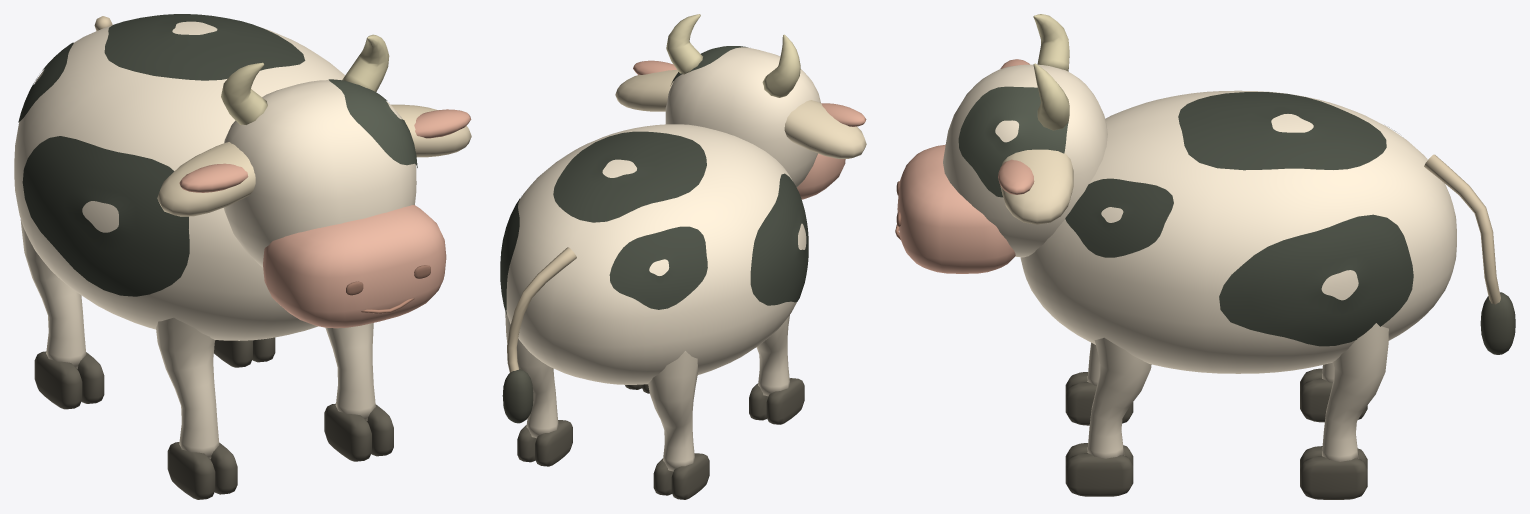
Rendered from cow.glb.
3 views of the same model, side by side, from view 1: azimuth 30°, elevation 25°; view 2: azimuth 150°, elevation 25°; view 3: azimuth 270°, elevation 25° (orthographic). The views are drawn at different scales.
Visible parts, largest first — view 1: sculpted-shoulders-belly, head-and-forehead, flush-coat-marking-1, soft-pink-muzzle, flush-coat-marking-2, curved-leg-2, curved-leg-0, ear--1, curved-leg-3, forehead-coat-marking, cloven-hoof-0-toe--1, cloven-hoof-2-toe--1 (+12 smaller); view 2: sculpted-shoulders-belly, head-and-forehead, flush-coat-marking-2, flush-coat-marking-4, flush-coat-marking-1, curved-leg-0, ear--1, curved-leg-1, ear-1, curved-leg-2, curving-tail, tail-tuft (+13 smaller); view 3: sculpted-shoulders-belly, flush-coat-marking-0, flush-coat-marking-2, head-and-forehead, soft-pink-muzzle, flush-coat-marking-3, forehead-coat-marking, curved-leg-1, curved-leg-3, ear-1, cloven-hoof-3-toe-1, cloven-hoof-1-toe-1 (+7 smaller).
Part boxes in pixels (left/top/right/bottom): sculpted-shoulders-belly: left=14, top=21, right=344, bottom=340; head-and-forehead: left=224, top=80, right=416, bottom=267; flush-coat-marking-1: left=22, top=136, right=189, bottom=296; soft-pink-muzzle: left=263, top=205, right=446, bottom=328; flush-coat-marking-2: left=104, top=14, right=305, bottom=80; curved-leg-2: left=156, top=317, right=219, bottom=459; curved-leg-0: left=20, top=219, right=86, bottom=368; ear--1: left=157, top=142, right=255, bottom=216; curved-leg-3: left=325, top=323, right=375, bottom=420; forehead-coat-marking: left=328, top=79, right=417, bottom=167; cloven-hoof-0-toe--1: left=34, top=351, right=82, bottom=409; cloven-hoof-2-toe--1: left=167, top=442, right=215, bottom=499; sculpted-shoulders-belly: left=506, top=124, right=806, bottom=384; head-and-forehead: left=665, top=47, right=820, bottom=187; flush-coat-marking-2: left=553, top=131, right=706, bottom=222; flush-coat-marking-4: left=609, top=226, right=707, bottom=309; flush-coat-marking-1: left=750, top=173, right=808, bottom=305; curved-leg-0: left=648, top=351, right=698, bottom=471; ear--1: left=784, top=100, right=866, bottom=158; curved-leg-1: left=505, top=312, right=558, bottom=438; ear-1: left=615, top=69, right=678, bottom=111; curved-leg-2: left=756, top=315, right=789, bottom=396; curving-tail: left=507, top=247, right=576, bottom=372; tail-tuft: left=502, top=369, right=533, bottom=423; sculpted-shoulders-belly: left=1020, top=90, right=1456, bottom=373; flush-coat-marking-0: left=1219, top=214, right=1413, bottom=346; flush-coat-marking-2: left=1178, top=92, right=1386, bottom=170; head-and-forehead: left=943, top=64, right=1107, bottom=257; soft-pink-muzzle: left=897, top=144, right=1015, bottom=273; flush-coat-marking-3: left=1065, top=178, right=1173, bottom=257; forehead-coat-marking: left=958, top=86, right=1068, bottom=197; curved-leg-1: left=1322, top=323, right=1388, bottom=461; curved-leg-3: left=1087, top=337, right=1151, bottom=458; ear-1: left=1000, top=149, right=1073, bottom=224; cloven-hoof-3-toe-1: left=1065, top=453, right=1133, bottom=496; cloven-hoof-1-toe-1: left=1300, top=456, right=1367, bottom=499.
Size of the model in its own units: 1.35 by 1.8 by 2.44.
